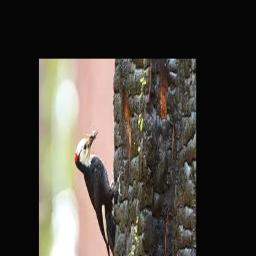Woodpecker: (76, 128, 123, 256)
